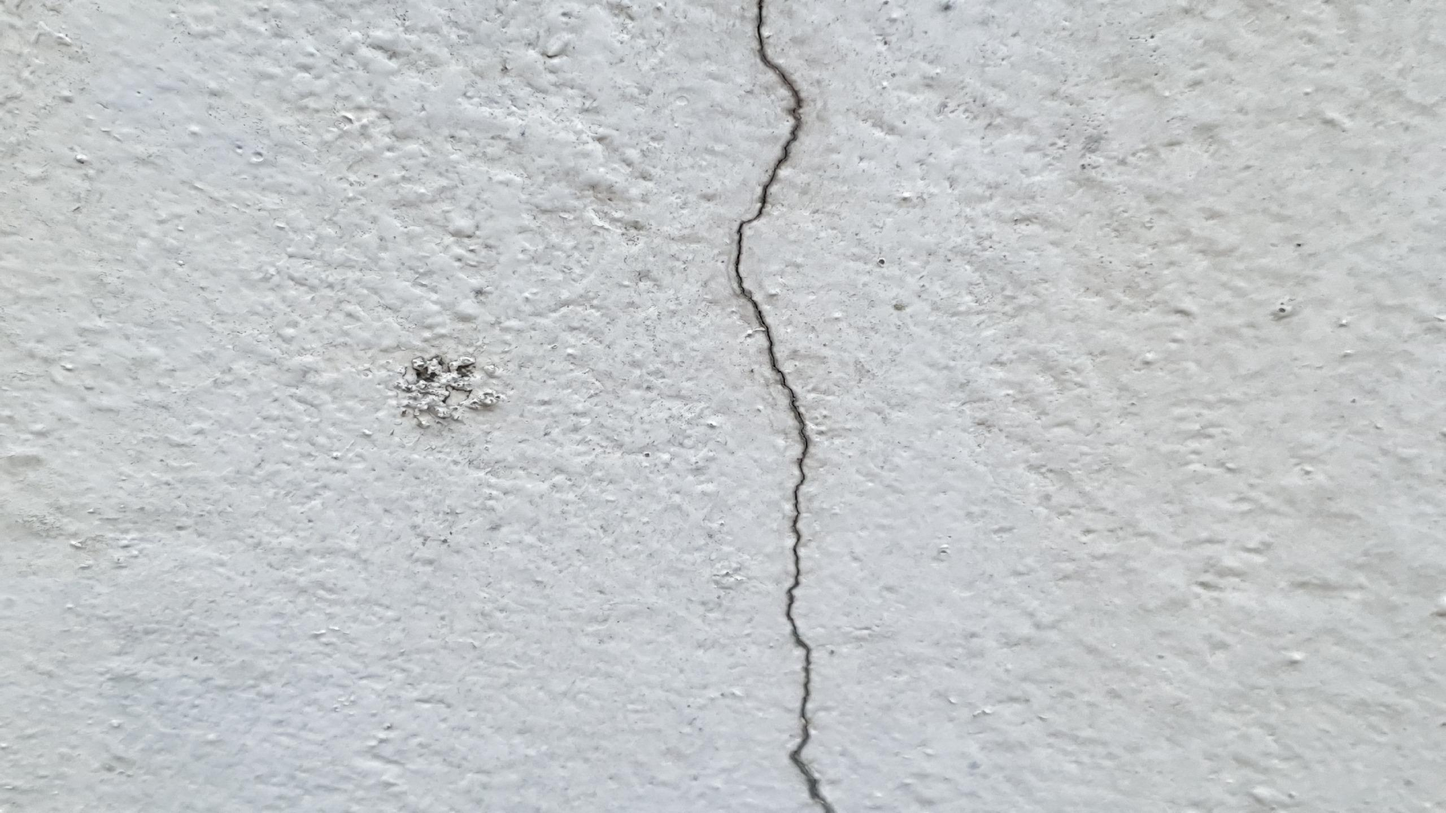crack: (732, 1, 838, 811)
